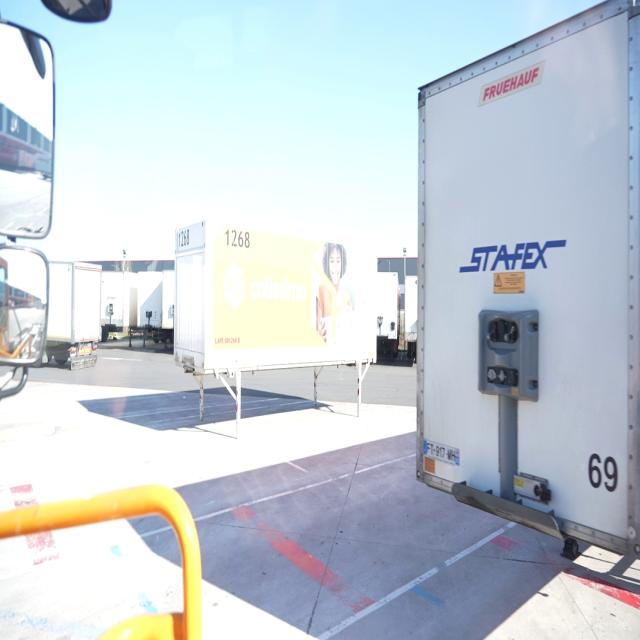Code: (221, 224, 252, 252), (174, 227, 195, 250)
